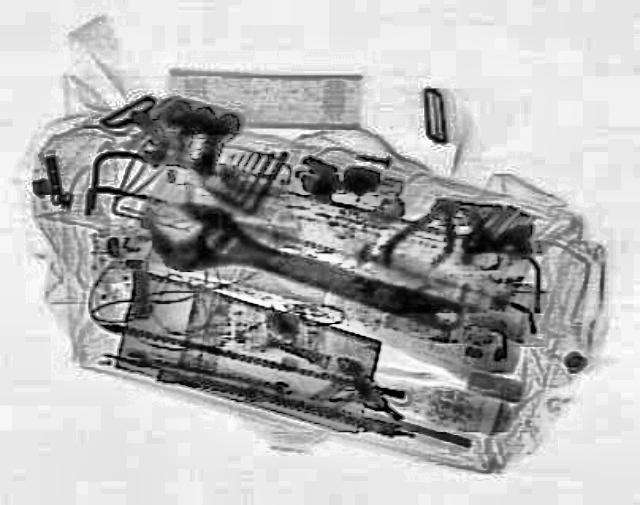Pliers: (372, 188, 482, 280)
Wrench: (123, 186, 480, 354)
